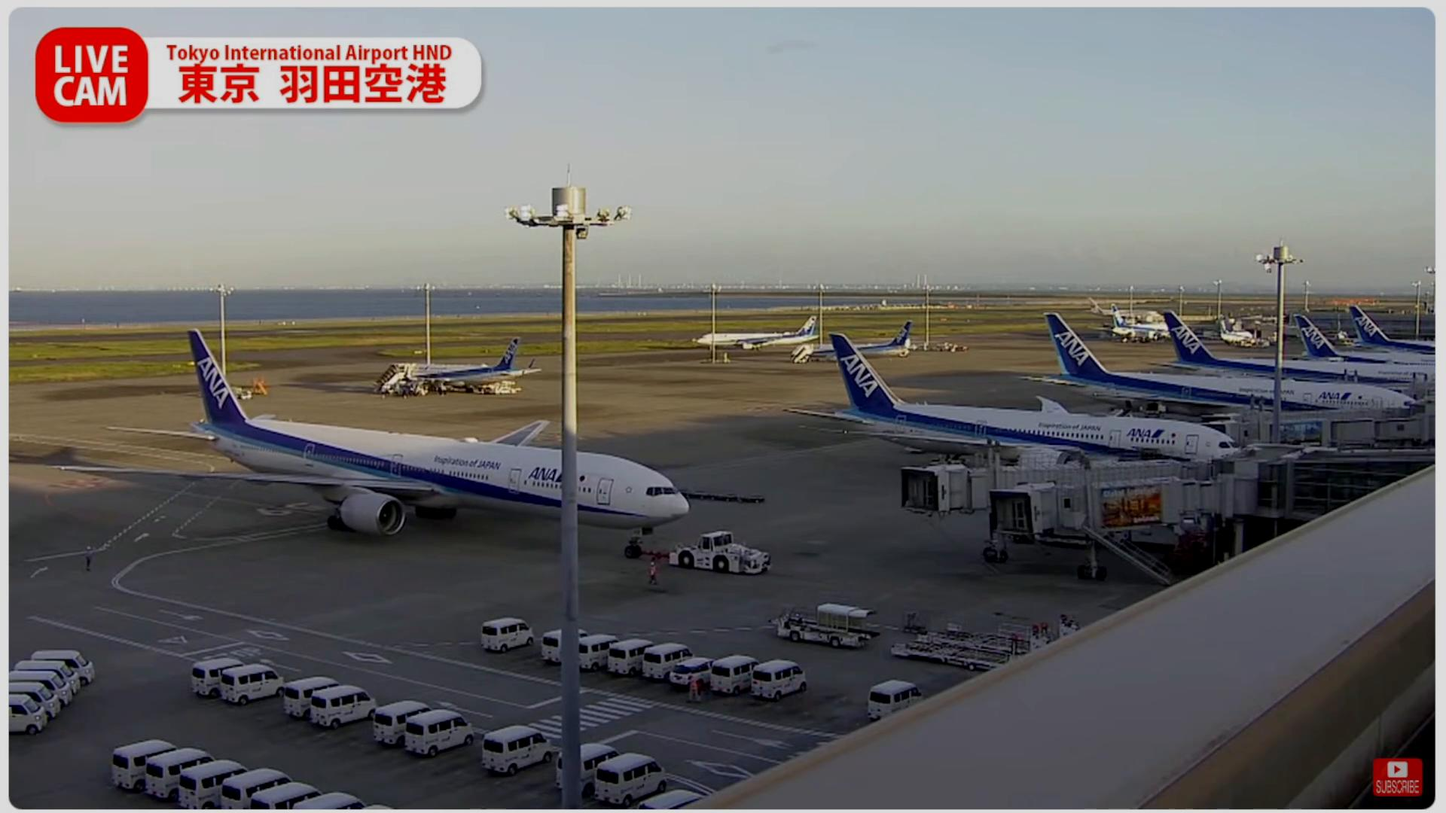APS: (667, 527, 775, 574)
Aerobridge: (992, 474, 1253, 544), (897, 462, 1214, 513)
Airplane: (48, 329, 693, 538)
JCPL: (918, 617, 1080, 654), (891, 641, 1014, 668)
Skyloader: (769, 599, 883, 648)
Window: (1253, 443, 1435, 520)
